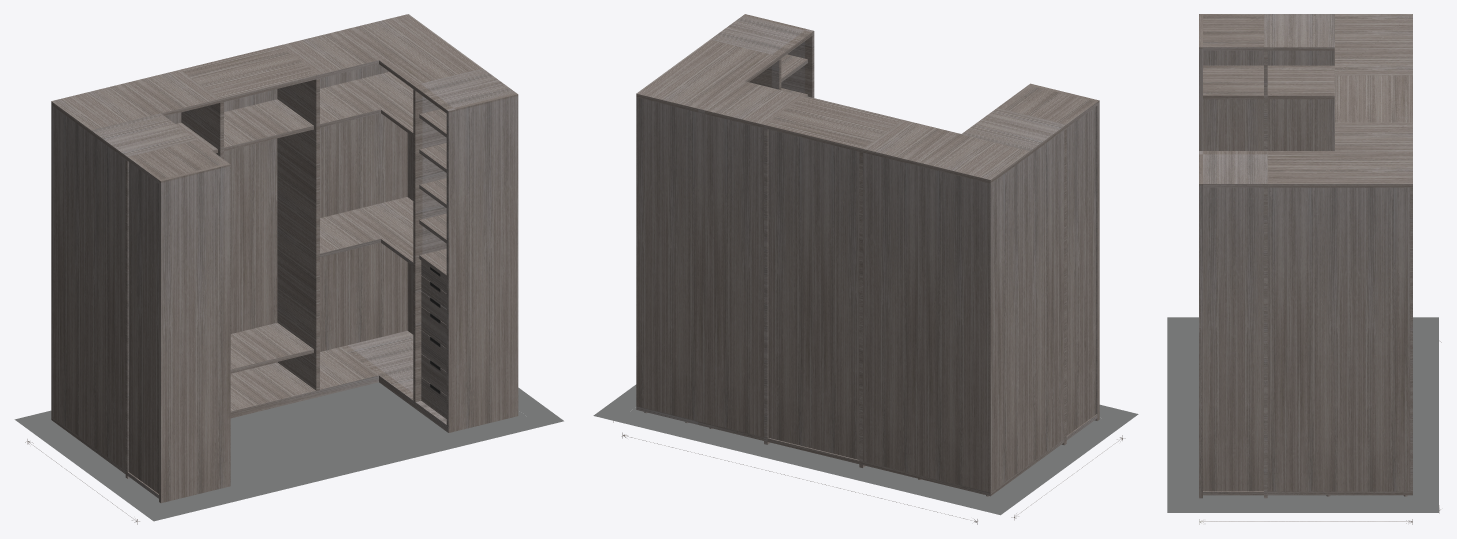
Rendered from B1N-PC-drawers-SC.obj.
3 renders of one model, left to right at view 1: azimuth 30°, elevation 25°; view 2: azimuth 150°, elevation 25°; view 3: azimuth 270°, elevation 25°, orthographic. The views are drawn at different scales.
Visible parts, largest first — view 1: Mesh1 B1N_with_drawers_DXF1 Model, Mesh23 B1N_with_drawers_DXF1 Model, Mesh68 B1N_with_drawers_DXF1 Model, Mesh106 B1N_with_drawers_DXF1 Model, Mesh4 B1N_with_drawers_DXF1 Model, Mesh50 B1N_with_drawers_DXF1 Model, Mesh107 B1N_with_drawers_DXF1 Model, Mesh61 B1N_with_drawers_DXF1 Model, Mesh51 B1N_with_drawers_DXF1 Model, Mesh52 B1N_with_drawers_DXF1 Model, Mesh49 B1N_with_drawers_DXF1 Model, Mesh77 B1N_with_drawers_DXF1 Model (+4 smaller); view 2: Mesh23 B1N_with_drawers_DXF1 Model, Mesh68 B1N_with_drawers_DXF1 Model, Mesh1 B1N_with_drawers_DXF1 Model, Mesh50 B1N_with_drawers_DXF1 Model, Mesh4 B1N_with_drawers_DXF1 Model, Mesh107 B1N_with_drawers_DXF1 Model, Mesh106 B1N_with_drawers_DXF1 Model, Mesh16 B1N_with_drawers_DXF1 Model; view 3: Mesh68 B1N_with_drawers_DXF1 Model, Mesh1 B1N_with_drawers_DXF1 Model, Mesh94 B1N_with_drawers_DXF1 Model, Mesh107 B1N_with_drawers_DXF1 Model, Mesh23 B1N_with_drawers_DXF1 Model, Mesh4 B1N_with_drawers_DXF1 Model, Mesh106 B1N_with_drawers_DXF1 Model, Mesh29 B1N_with_drawers_DXF1 Model, Mesh8 B1N_with_drawers_DXF1 Model, Mesh61 B1N_with_drawers_DXF1 Model.
Part boxes in pixels (x1,y1,x2,y2): Mesh1 B1N_with_drawers_DXF1 Model: [51, 14, 518, 503]; Mesh23 B1N_with_drawers_DXF1 Model: [51, 105, 181, 470]; Mesh68 B1N_with_drawers_DXF1 Model: [320, 64, 413, 351]; Mesh106 B1N_with_drawers_DXF1 Model: [52, 382, 526, 505]; Mesh4 B1N_with_drawers_DXF1 Model: [128, 162, 158, 493]; Mesh50 B1N_with_drawers_DXF1 Model: [224, 89, 277, 373]; Mesh107 B1N_with_drawers_DXF1 Model: [14, 387, 563, 521]; Mesh61 B1N_with_drawers_DXF1 Model: [320, 330, 413, 399]; Mesh51 B1N_with_drawers_DXF1 Model: [224, 99, 313, 151]; Mesh52 B1N_with_drawers_DXF1 Model: [230, 322, 313, 372]; Mesh49 B1N_with_drawers_DXF1 Model: [230, 362, 315, 411]; Mesh77 B1N_with_drawers_DXF1 Model: [344, 197, 413, 265]; Mesh23 B1N_with_drawers_DXF1 Model: [863, 130, 1064, 492]; Mesh68 B1N_with_drawers_DXF1 Model: [636, 97, 763, 437]; Mesh1 B1N_with_drawers_DXF1 Model: [636, 14, 1099, 467]; Mesh50 B1N_with_drawers_DXF1 Model: [768, 129, 859, 459]; Mesh4 B1N_with_drawers_DXF1 Model: [1066, 107, 1096, 435]; Mesh107 B1N_with_drawers_DXF1 Model: [593, 384, 1138, 515]; Mesh106 B1N_with_drawers_DXF1 Model: [630, 407, 1101, 499]; Mesh16 B1N_with_drawers_DXF1 Model: [863, 439, 1064, 496]; Mesh68 B1N_with_drawers_DXF1 Model: [1267, 187, 1412, 491]; Mesh1 B1N_with_drawers_DXF1 Model: [1199, 14, 1412, 498]; Mesh94 B1N_with_drawers_DXF1 Model: [1203, 187, 1263, 490]; Mesh107 B1N_with_drawers_DXF1 Model: [1167, 317, 1438, 512]; Mesh23 B1N_with_drawers_DXF1 Model: [1267, 50, 1334, 150]; Mesh4 B1N_with_drawers_DXF1 Model: [1203, 50, 1263, 150]; Mesh106 B1N_with_drawers_DXF1 Model: [1193, 328, 1412, 501]; Mesh29 B1N_with_drawers_DXF1 Model: [1267, 65, 1334, 99]; Mesh8 B1N_with_drawers_DXF1 Model: [1203, 65, 1263, 99]; Mesh61 B1N_with_drawers_DXF1 Model: [1267, 491, 1412, 495].
Size of the model in its own units: 139 by 109 by 82.19.
Materials: 4 (2 with a texture image).
